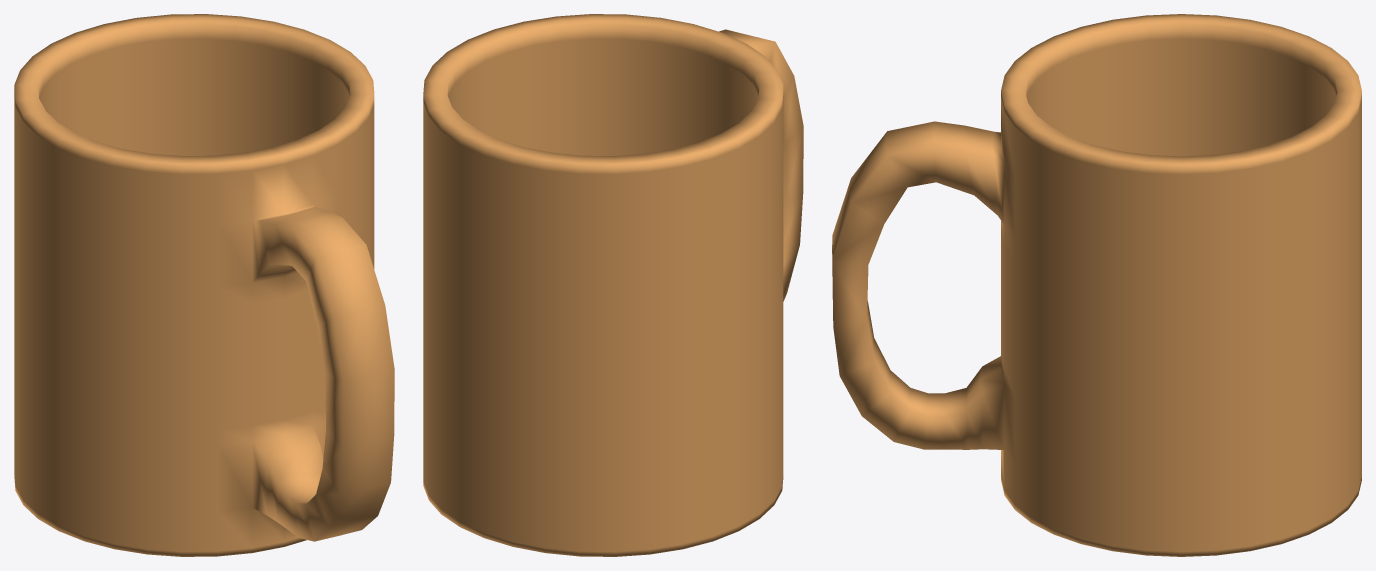
File: 1_cup.glb
3 views of the same model, side by side, from view 1: azimuth 30°, elevation 25°; view 2: azimuth 150°, elevation 25°; view 3: azimuth 270°, elevation 25° (orthographic).
Parts seen in each view (by area): view 1: Cylinder; view 2: Cylinder; view 3: Cylinder.
Part boxes in pixels (left/top/right/bottom): Cylinder: left=14, top=14, right=394, bottom=556; Cylinder: left=423, top=14, right=803, bottom=556; Cylinder: left=832, top=14, right=1361, bottom=556.
Size of the model in its own units: 0.08 by 0.0955 by 0.1174.
